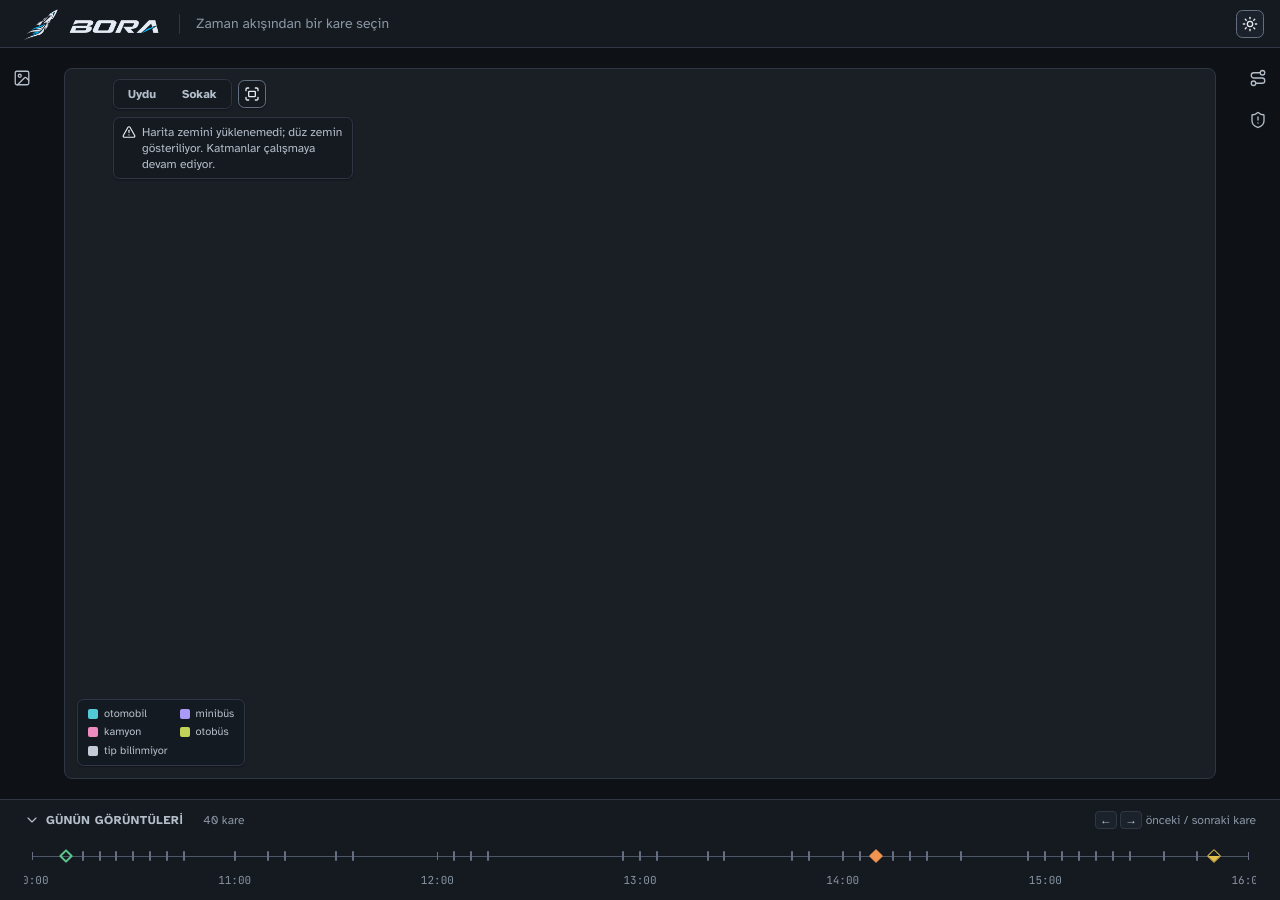
it: Açılış haritası: Üs, halkalar ve yaklaşık bölge alanları › zemin yüklenemezse düz zemine düşer, bunu söyler ve katmanlar yerinde kalır
expect the text "Harita zemini yüklenemedi; düz zemin gösteriliyor" is shown: met, box x1=142 y1=125 x2=342 y2=171
Operatör zemini yeniden deneyebilir.
Click the button "Uydu". click: (142, 94)
box: x1=116 y1=82 x2=168 y2=106
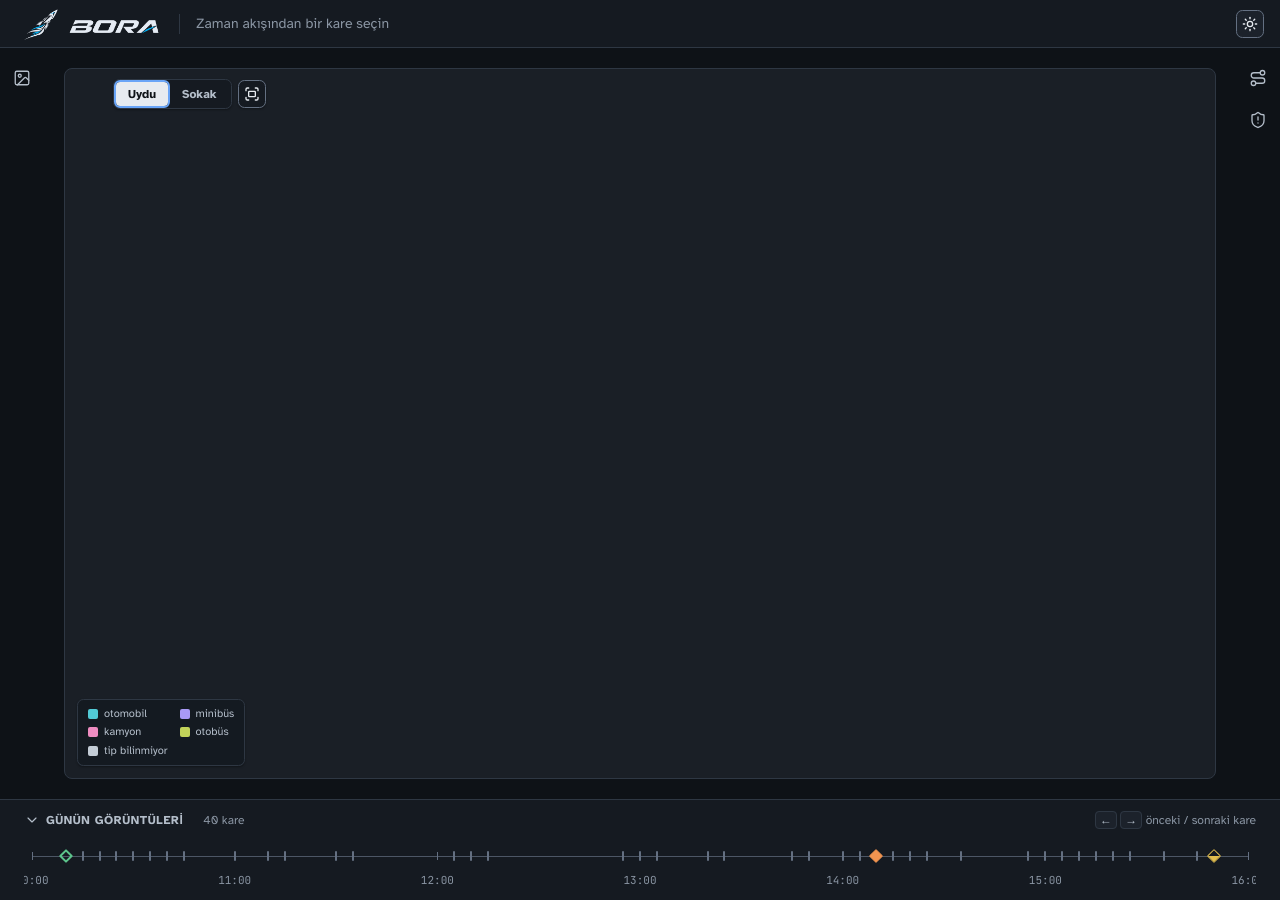
expect the text "Harita zemini yüklenemedi" is gone: met
